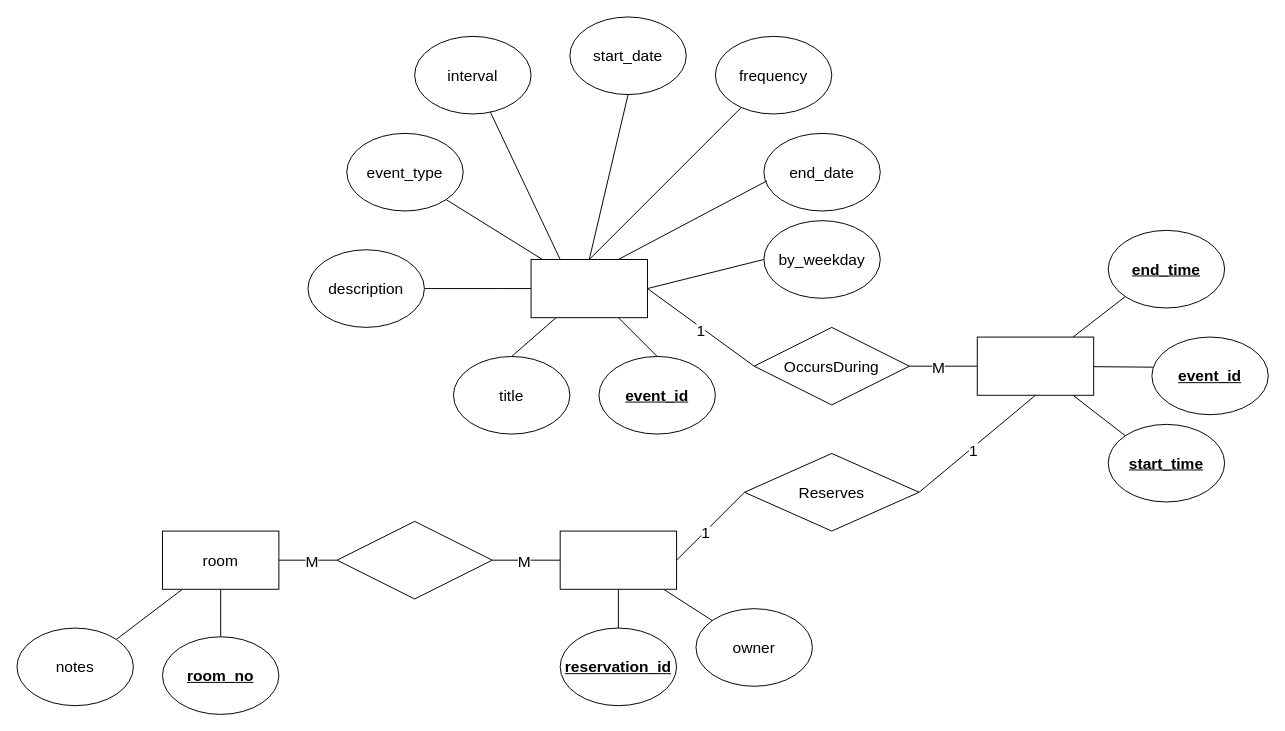
Some shapes in this 1285 by 731 pixel diagram are drawn without their labels. The shapes that lost their labels are listed below. From the top down, each one's centre as x and y in pixels, then its label:
At (x=588, y=288): "event".
At (x=1035, y=365): "event_time_slot".
At (x=414, y=559): "Hosts".
At (x=618, y=559): "Reservation".
